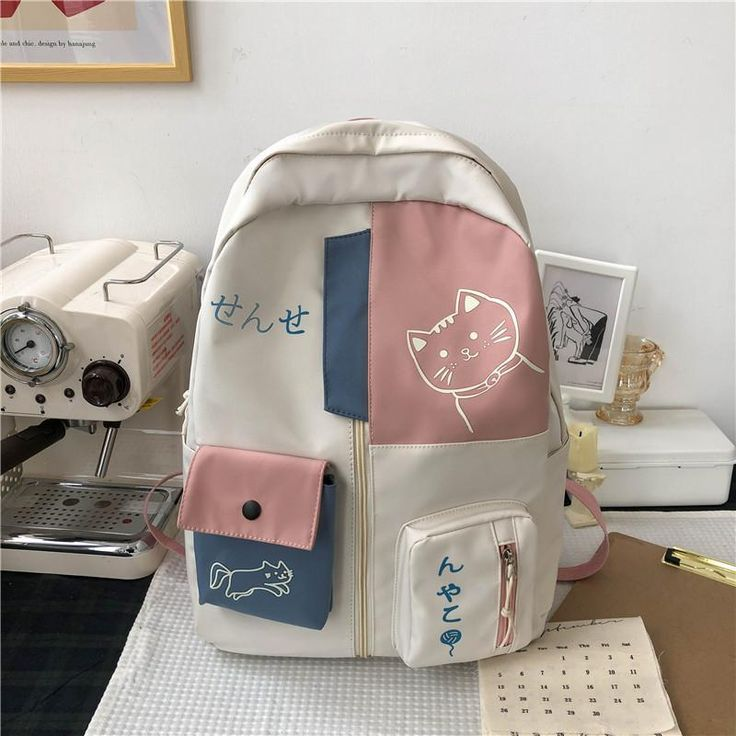nylon: (182, 117, 571, 666)
